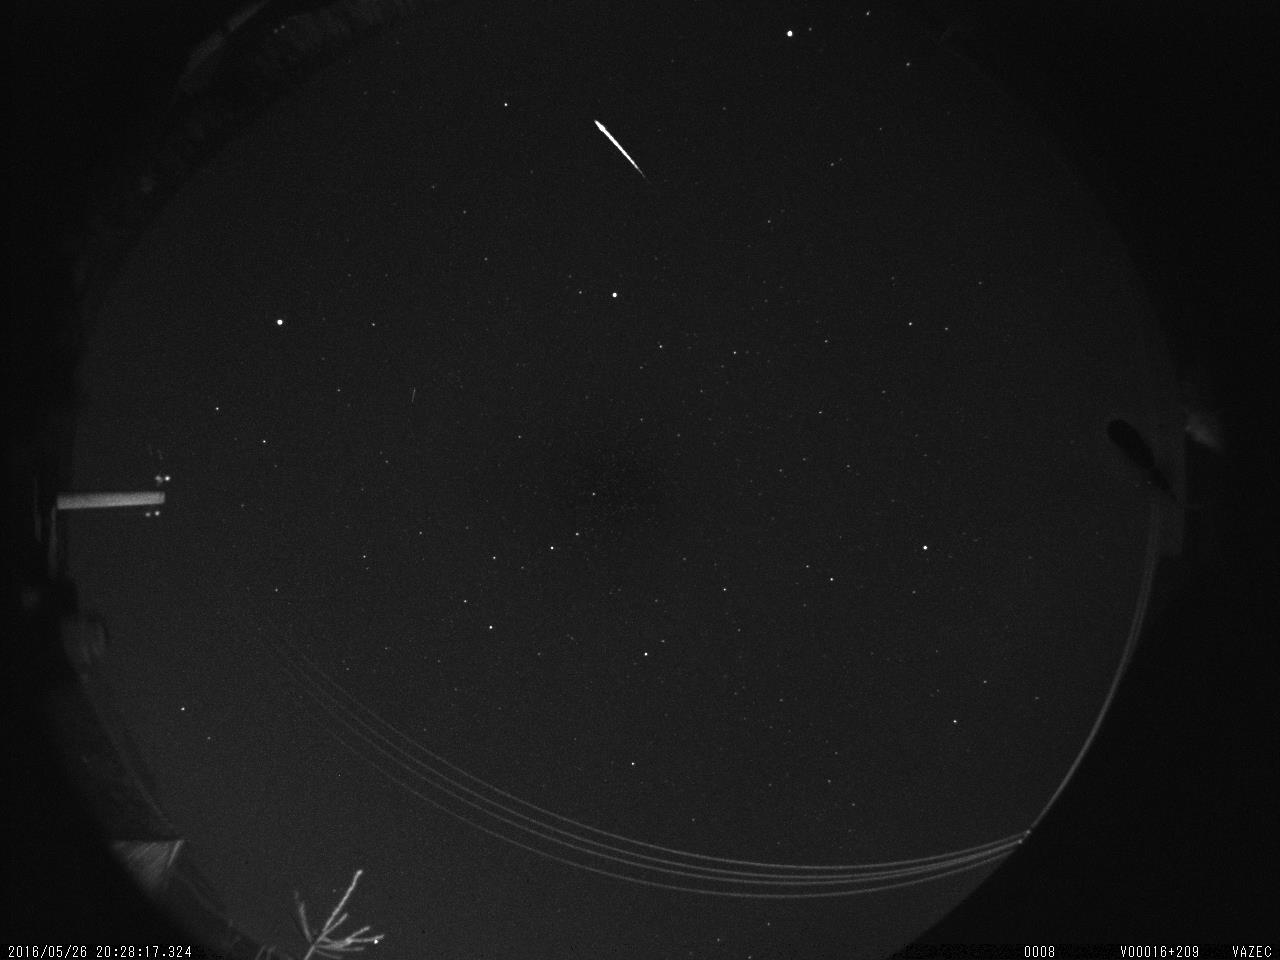meteor: (574, 111, 663, 195)
